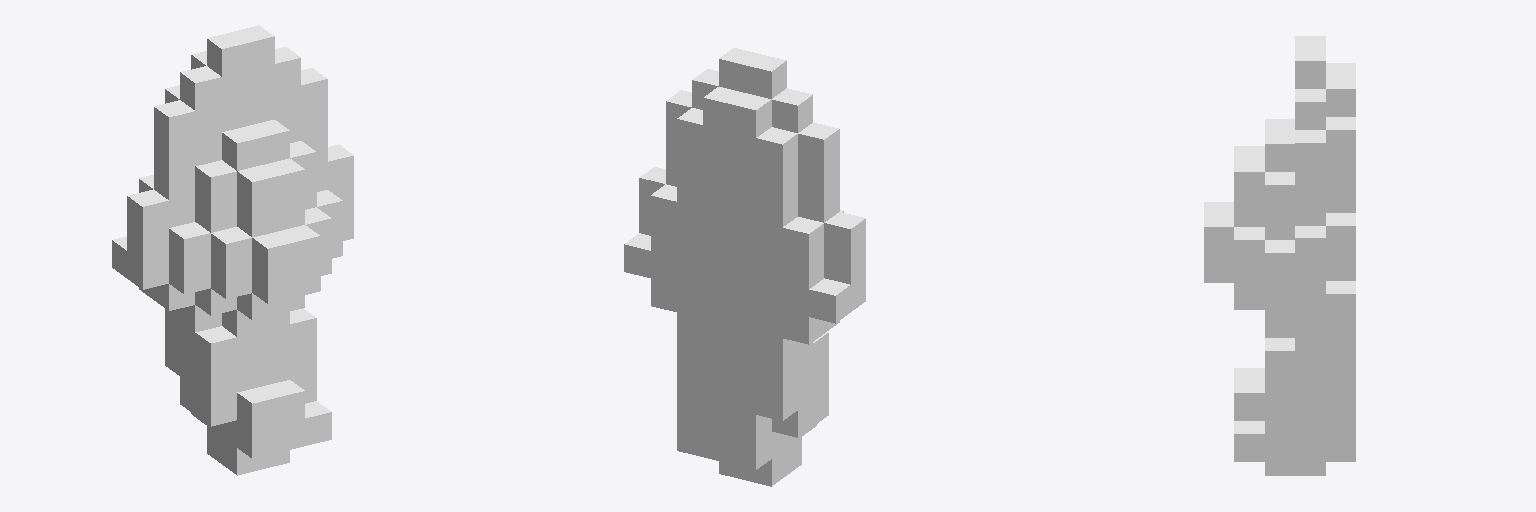
The model's file is Trevor-12.obj.
3 renders of one model, left to right at view 1: azimuth 30°, elevation 25°; view 2: azimuth 150°, elevation 25°; view 3: azimuth 270°, elevation 25°, orthographic.
Parts seen in each view (by area): view 1: object 1; view 2: object 1; view 3: object 1.
Boxes of the visible parts, box(x1,y1,x2,y2) form: object 1: box(112, 25, 353, 475); object 1: box(624, 48, 865, 486); object 1: box(1204, 36, 1355, 475).
Bounding box in the file's own units: 0.8 × 1.5 × 0.5.